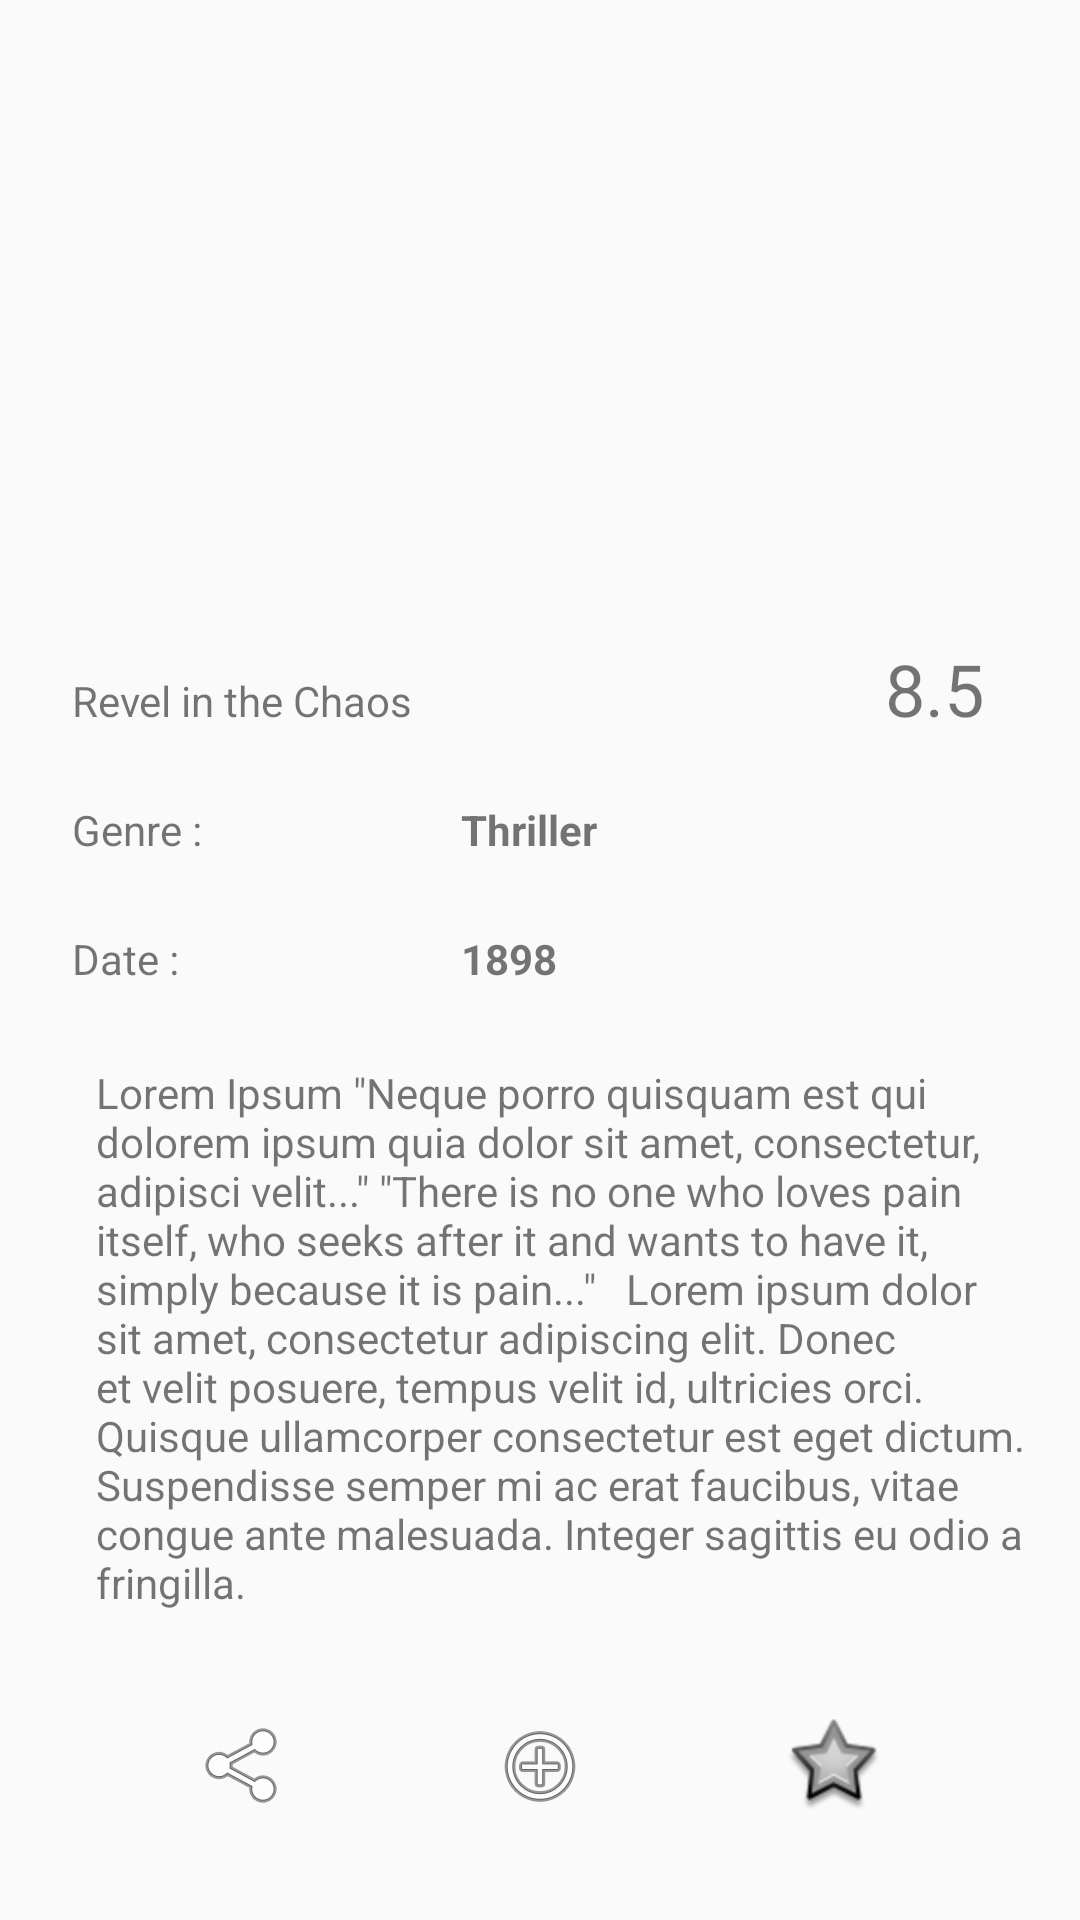

Point at icon controls on the screen. Image size 1080x1920, points as point (x, y).
add: point (540, 1766)
share: point (241, 1765)
